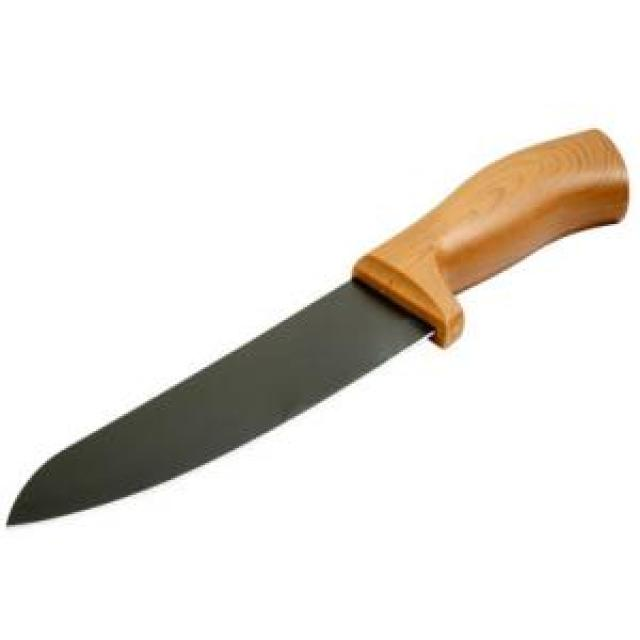knife: (6, 124, 637, 530)
